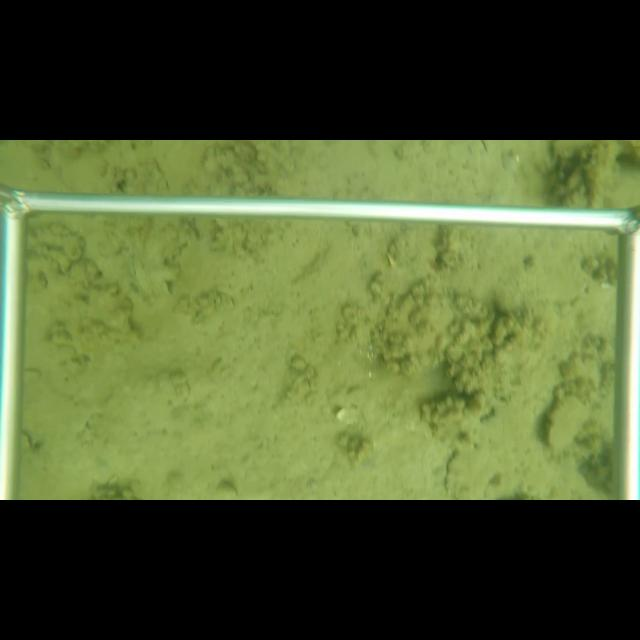Oyster-Closed: (545, 394, 593, 462)
